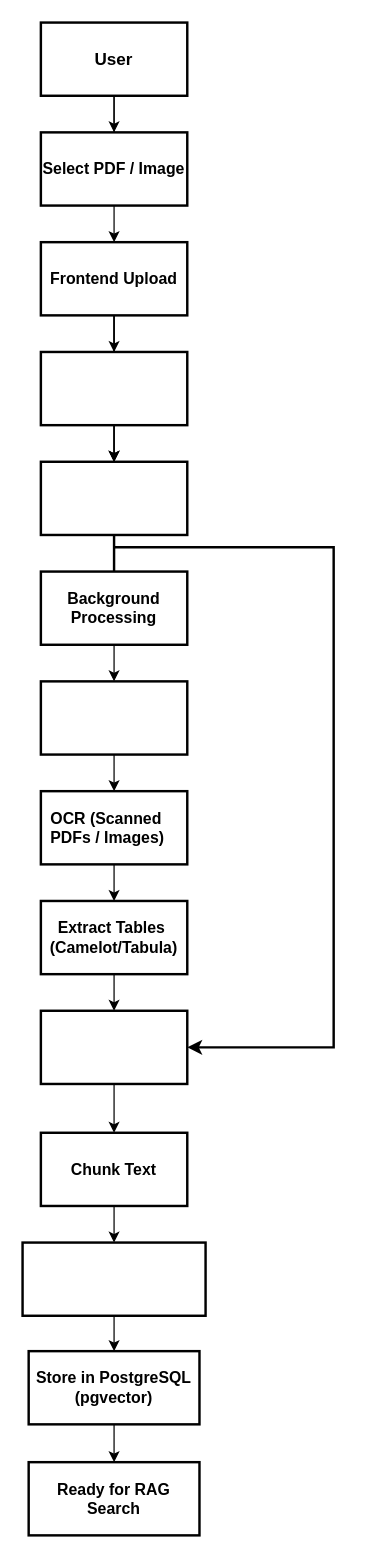
Image size: 365x1557. Some labels were removed from this diagram. The centre of each missing label's shape, as x and y in pixels:
"Combine Content" goes at (113,1047).
"Extract Text (pdfplumber)" goes at (113,717).
"FastAPI Backend" goes at (113,498).
"Generate Embeddings (Sentence Transformer)" goes at (113,1278).
"POST /upload-document" goes at (113,388).
